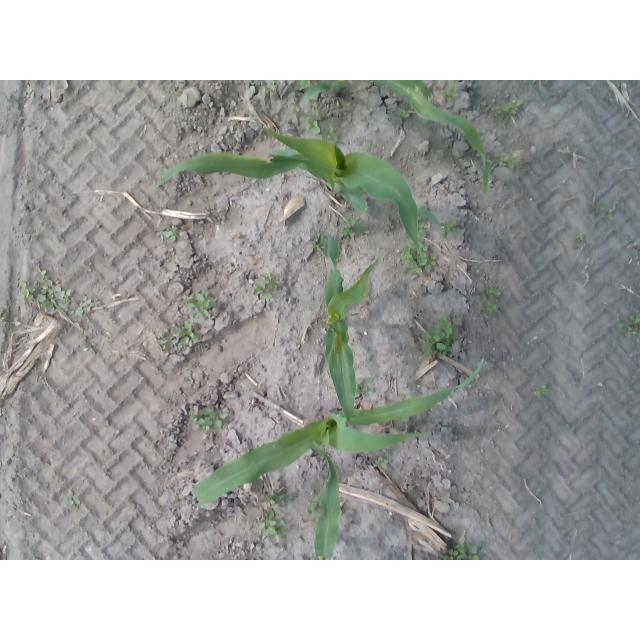Maize: (193, 357, 484, 559), (155, 129, 425, 259), (301, 80, 487, 196), (323, 232, 381, 422)
Weeds: (37, 268, 72, 312), (188, 293, 214, 319), (172, 324, 200, 345), (422, 331, 447, 354), (202, 408, 228, 429), (455, 540, 481, 560), (440, 318, 460, 343), (257, 511, 276, 536), (74, 295, 94, 316), (496, 100, 522, 115), (19, 281, 36, 303), (61, 489, 79, 507), (499, 151, 517, 169), (159, 226, 178, 242), (441, 217, 458, 234), (419, 256, 437, 272), (406, 261, 423, 276), (307, 116, 322, 133), (357, 385, 376, 397), (276, 520, 289, 537), (618, 323, 630, 341), (574, 234, 587, 250), (188, 412, 204, 425), (158, 334, 170, 351), (403, 245, 417, 259), (252, 281, 265, 296), (488, 287, 501, 301), (445, 89, 457, 104), (260, 495, 276, 506), (0, 309, 8, 331), (278, 495, 295, 505), (475, 294, 488, 307), (376, 458, 389, 471), (443, 549, 458, 560), (340, 227, 354, 238), (420, 223, 429, 240), (306, 502, 318, 514), (84, 343, 97, 354), (183, 293, 194, 306), (23, 90, 36, 101), (591, 201, 605, 211), (264, 83, 276, 94), (626, 318, 640, 327), (626, 327, 639, 336), (313, 243, 324, 253), (323, 129, 334, 139), (486, 304, 498, 313), (358, 377, 375, 383), (497, 232, 507, 242), (537, 385, 547, 395), (455, 543, 465, 553), (263, 271, 273, 281), (274, 281, 284, 291), (300, 80, 311, 89), (399, 109, 409, 118), (346, 221, 358, 228), (290, 106, 300, 114), (7, 97, 20, 103), (174, 496, 182, 505), (604, 212, 613, 220), (605, 94, 613, 103), (480, 313, 489, 321), (103, 467, 110, 477), (14, 317, 21, 327), (612, 138, 617, 151), (175, 91, 184, 98), (264, 292, 272, 299)
